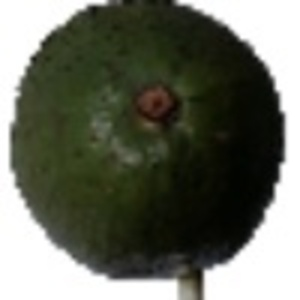abacate: (4, 3, 286, 280)
